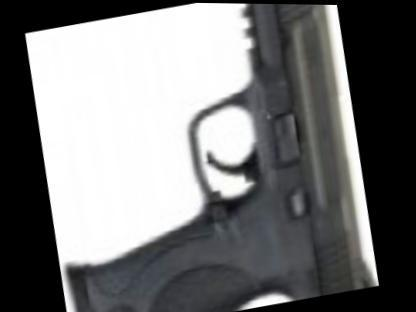pistol: (20, 0, 394, 311)
